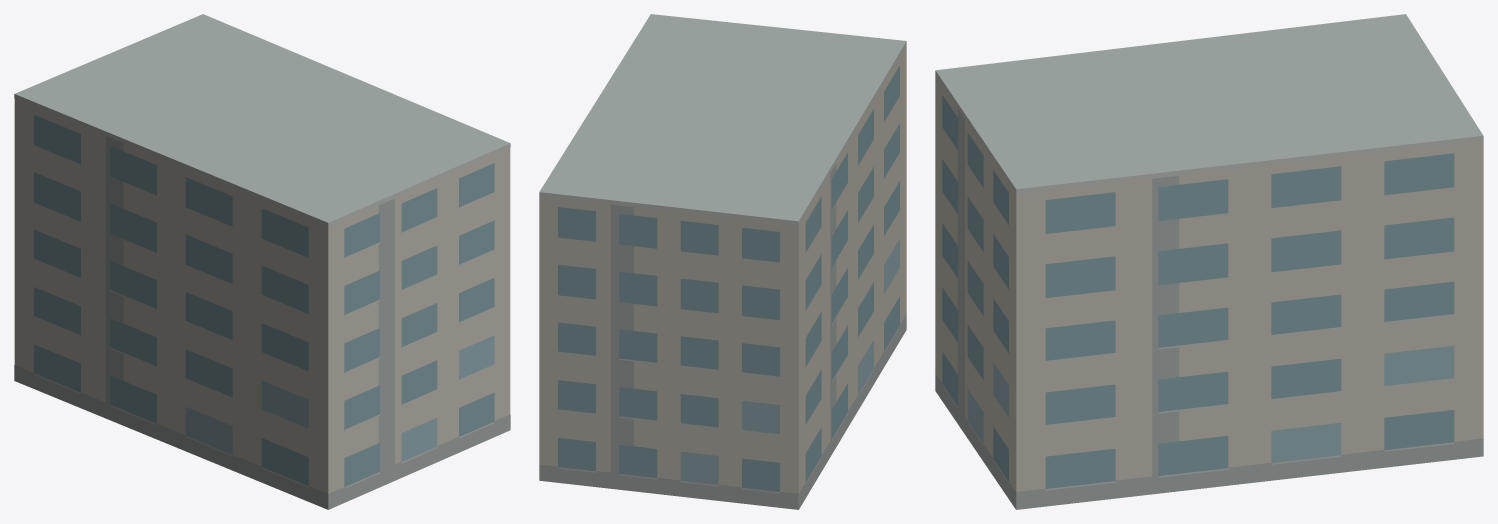
The model's file is survey-upis-32642879.glb.
3 views of the same model, side by side, from view 1: azimuth 30°, elevation 25°; view 2: azimuth 150°, elevation 25°; view 3: azimuth 270°, elevation 25° (orthographic). The views are drawn at different scales.
Parts seen in each view (by area): view 1: survey-upis-32642879.tmp; view 2: survey-upis-32642879.tmp; view 3: survey-upis-32642879.tmp.
Boxes of the visible parts, box(x1,y1,x2,y2) form: survey-upis-32642879.tmp: box(14, 14, 510, 509); survey-upis-32642879.tmp: box(539, 14, 906, 509); survey-upis-32642879.tmp: box(935, 14, 1483, 509).
Bounding box in the file's own units: 17.89 × 15.25 × 23.64.
